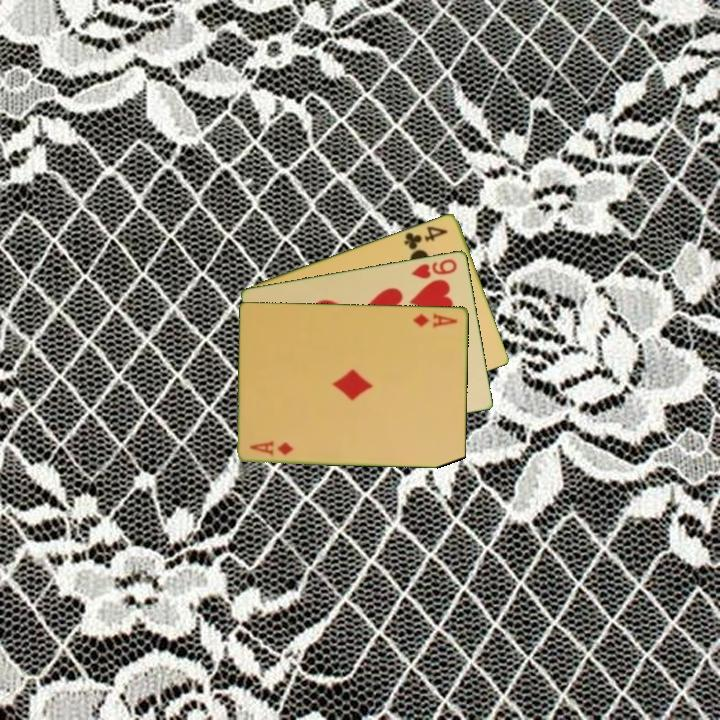4c: (401, 222, 451, 252)
9h: (408, 255, 460, 281)
Ad: (410, 309, 460, 330), (247, 437, 296, 458)
